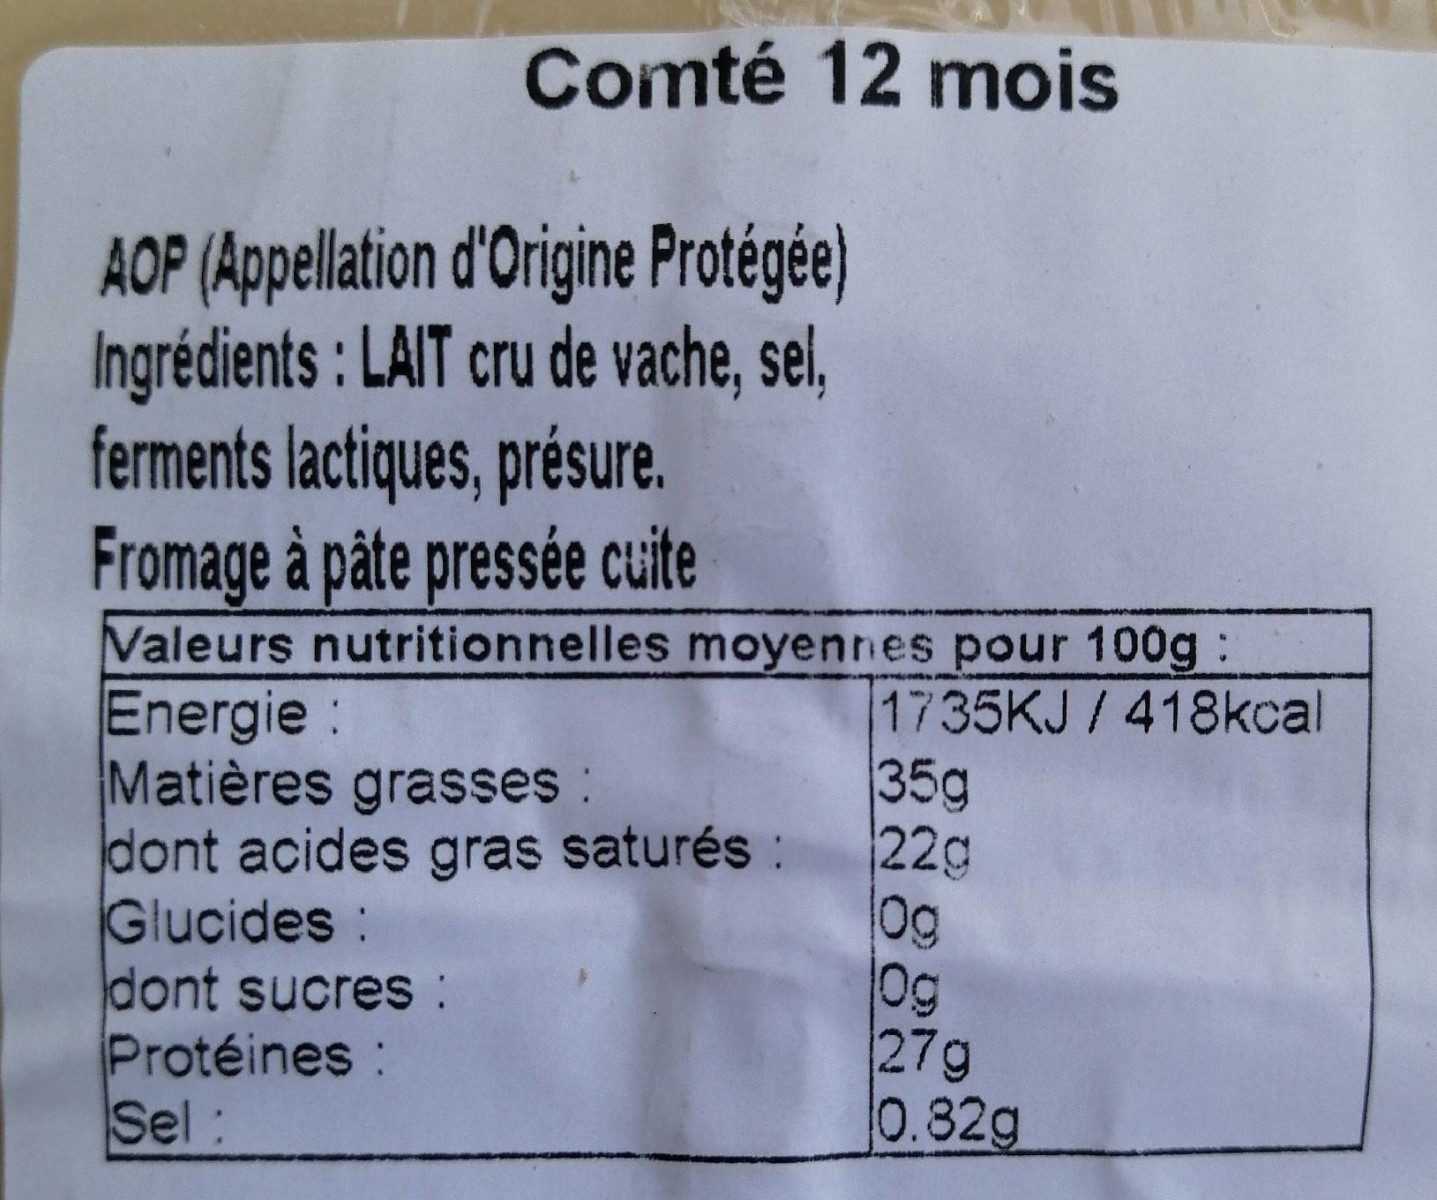column: (101, 675, 824, 1155), (878, 677, 1359, 1147)
table: (100, 614, 1370, 1152)
